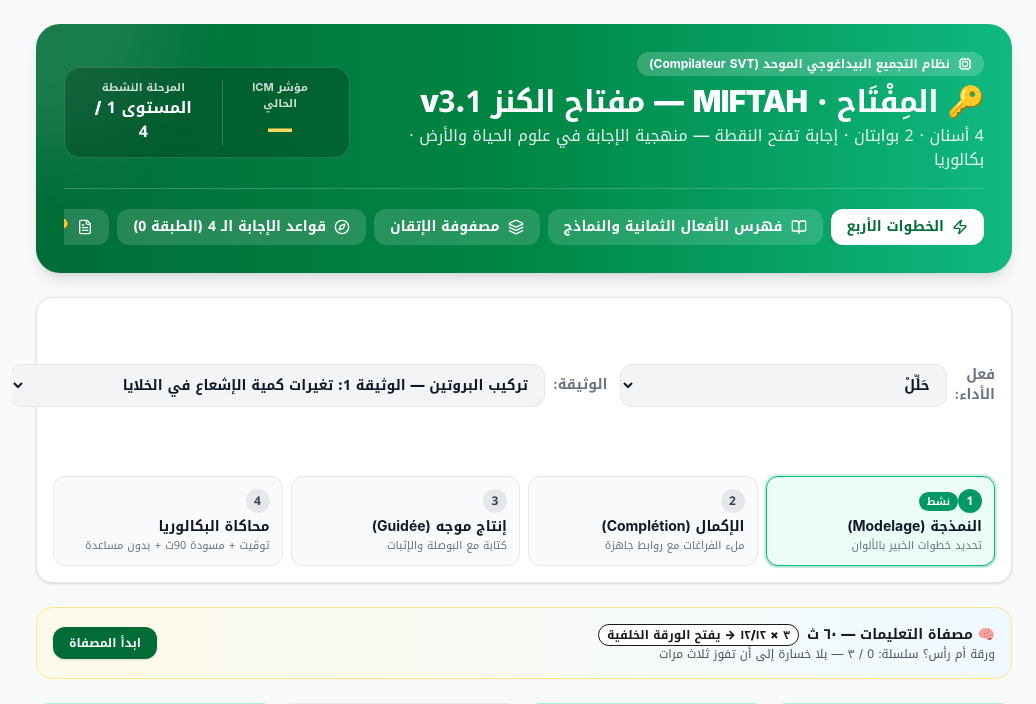
Test: B2 · isolation du gate au stade 3 › après le clic « نعم — مفتوح » : gate fermé, sections rendues, moules visibles
What coordinates should you click on to do the following:
click the heading "إنتاج موجه (Guidée)"
I would click on:
 (439, 527)
Its box is [372,517,507,537].
(page scrolled)
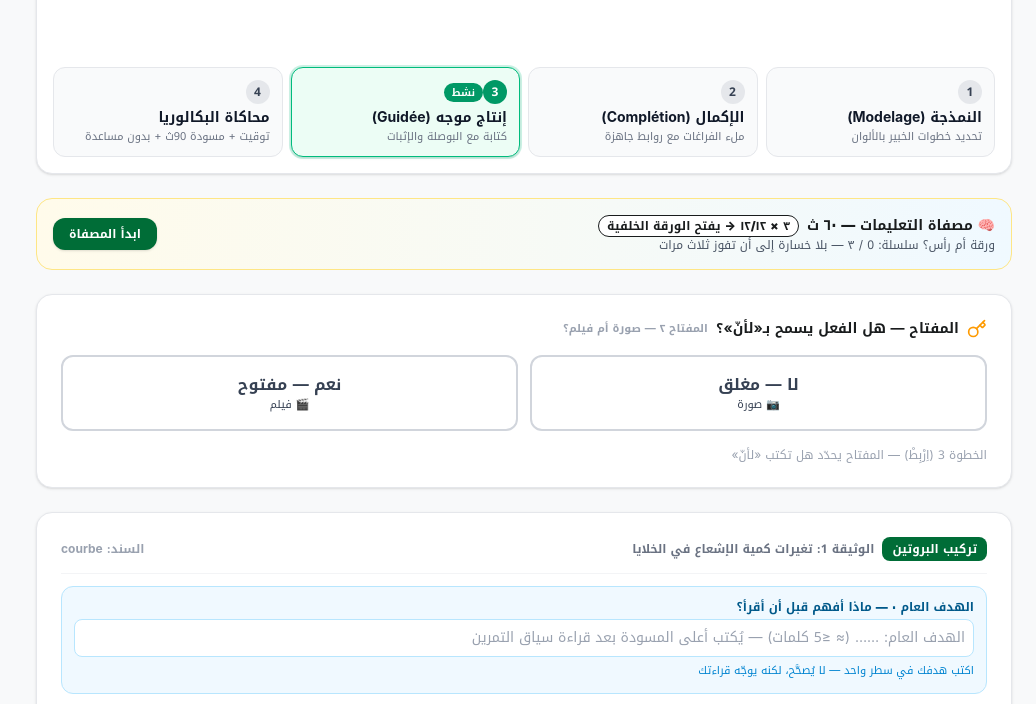
What coordinates should you click on to do the following:
click the text "نعم — مفتوح"
I would click on:
 (290, 384)
Its box is [238,369,341,400].
(page scrolled)
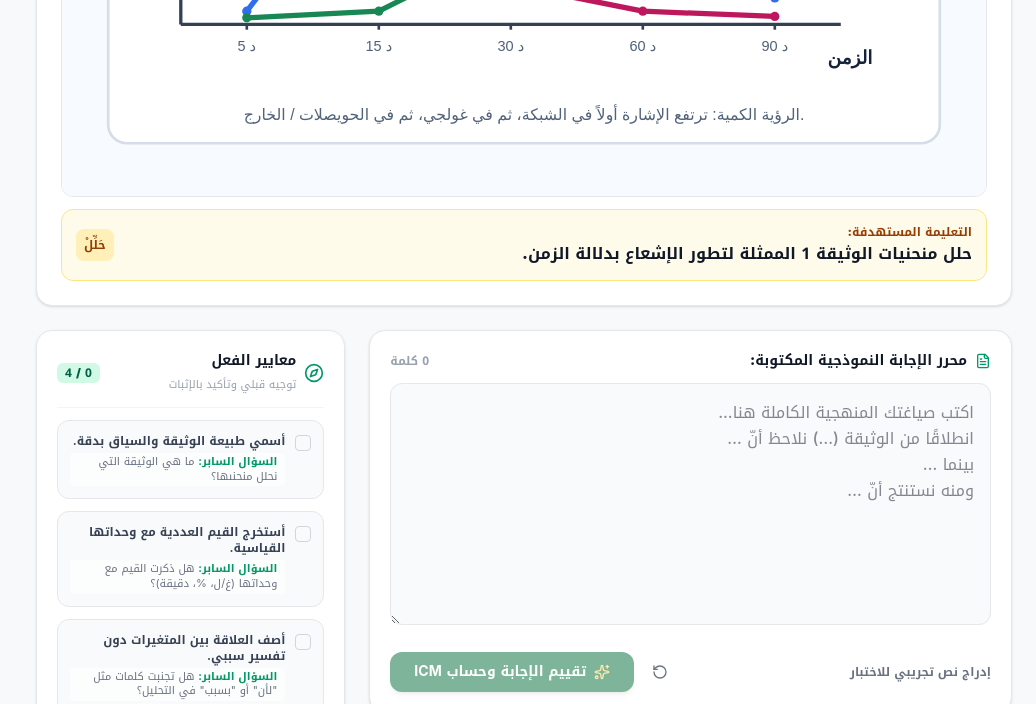
Expected: the text "المفتاح — هل الفعل يسمح بـ«لأنّ»؟" is gone
Expected: the text "توجيه قبلي وتأكيد بالإثبات" is shown, [169,374,296,395]
